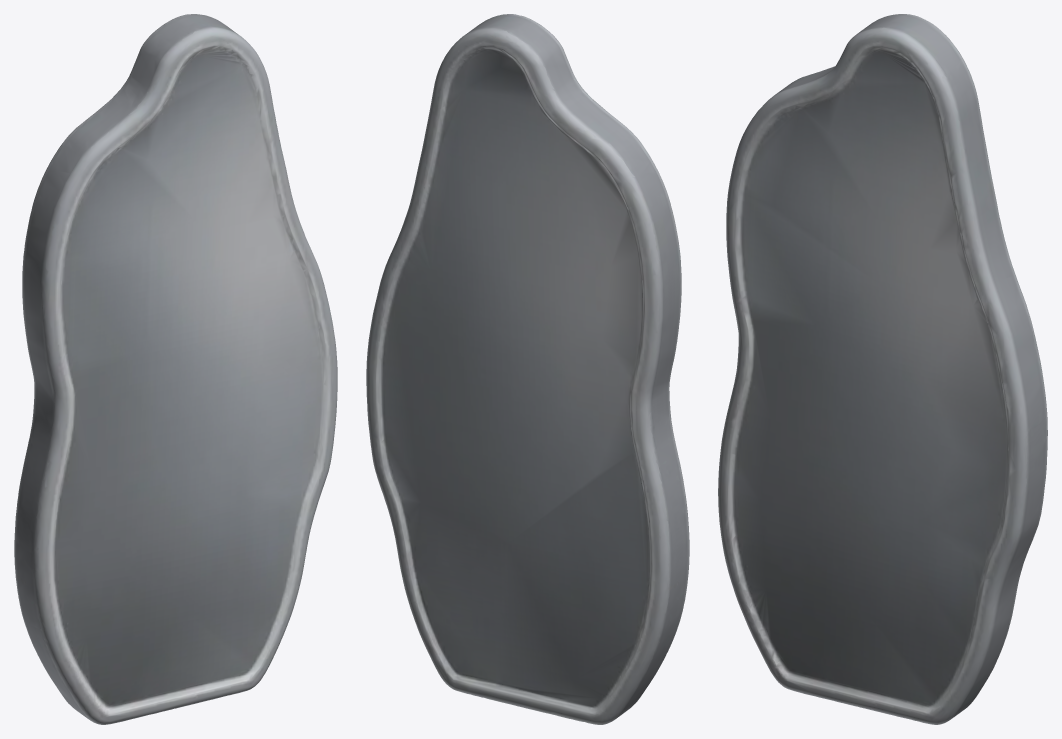
File: ba5yKdPWvLAtKBwsfKmne.glb
The picture shows the model from 3 angles, left to right: view 1: azimuth 30°, elevation 25°; view 2: azimuth 150°, elevation 25°; view 3: azimuth 330°, elevation 25°; orthographic projection. The views are drawn at different scales.
Parts seen in each view (by area): view 1: geometry_0; view 2: geometry_0; view 3: geometry_0.
Part boxes in pixels (<box>): geometry_0: <box>14,14,337,724</box>; geometry_0: <box>366,14,689,724</box>; geometry_0: <box>718,14,1047,724</box>.
Bounding box in the file's own units: 0.4738 × 1 × 0.0766.
1 material, 1 textured.
